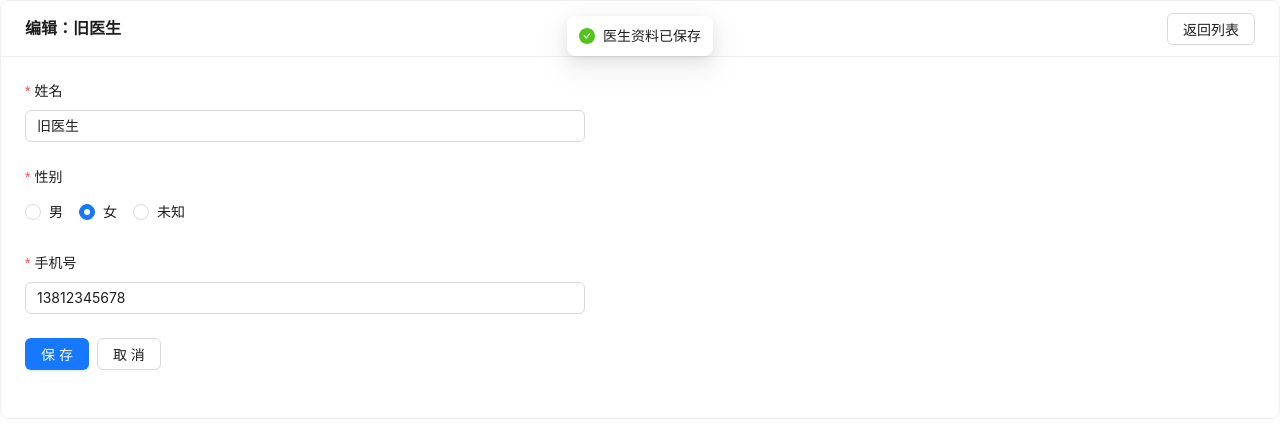
Scenario: DoctorEditPage › shows backend phone errors on the phone field
Expected: the field showing "旧医生" is shown, [25,110,585,142]
Click the button "保 存" at (57, 354), box [25,338,89,370]
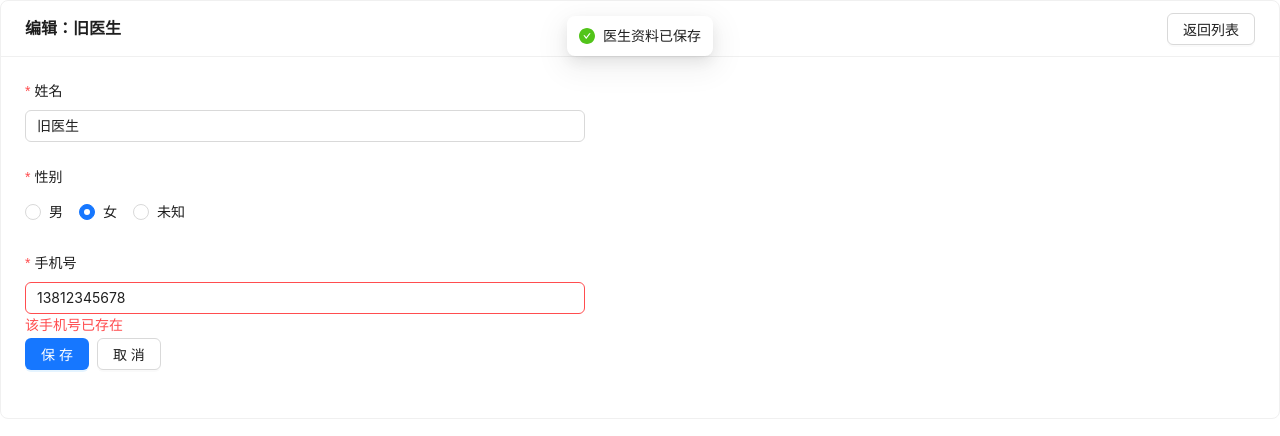
Now the text "该手机号已存在" is shown, box [25,316,123,333]
